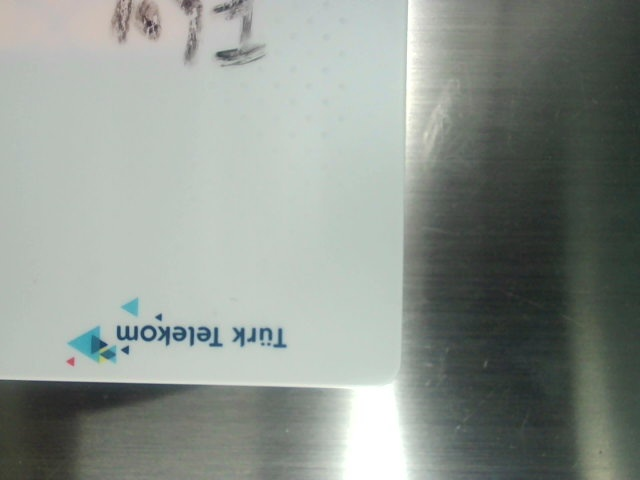AQ_TURKTelekom: (57, 294, 295, 372)
